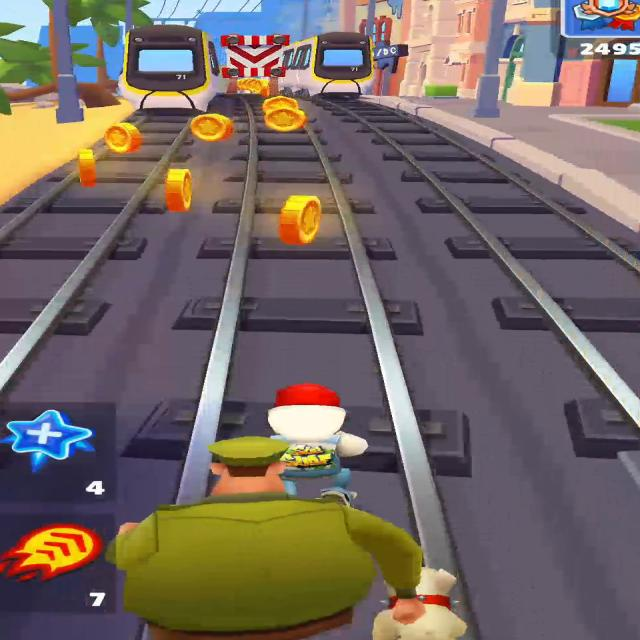jump-barrier: (221, 34, 289, 96)
police: (101, 436, 424, 640)
train: (119, 25, 227, 112), (289, 28, 381, 94)
